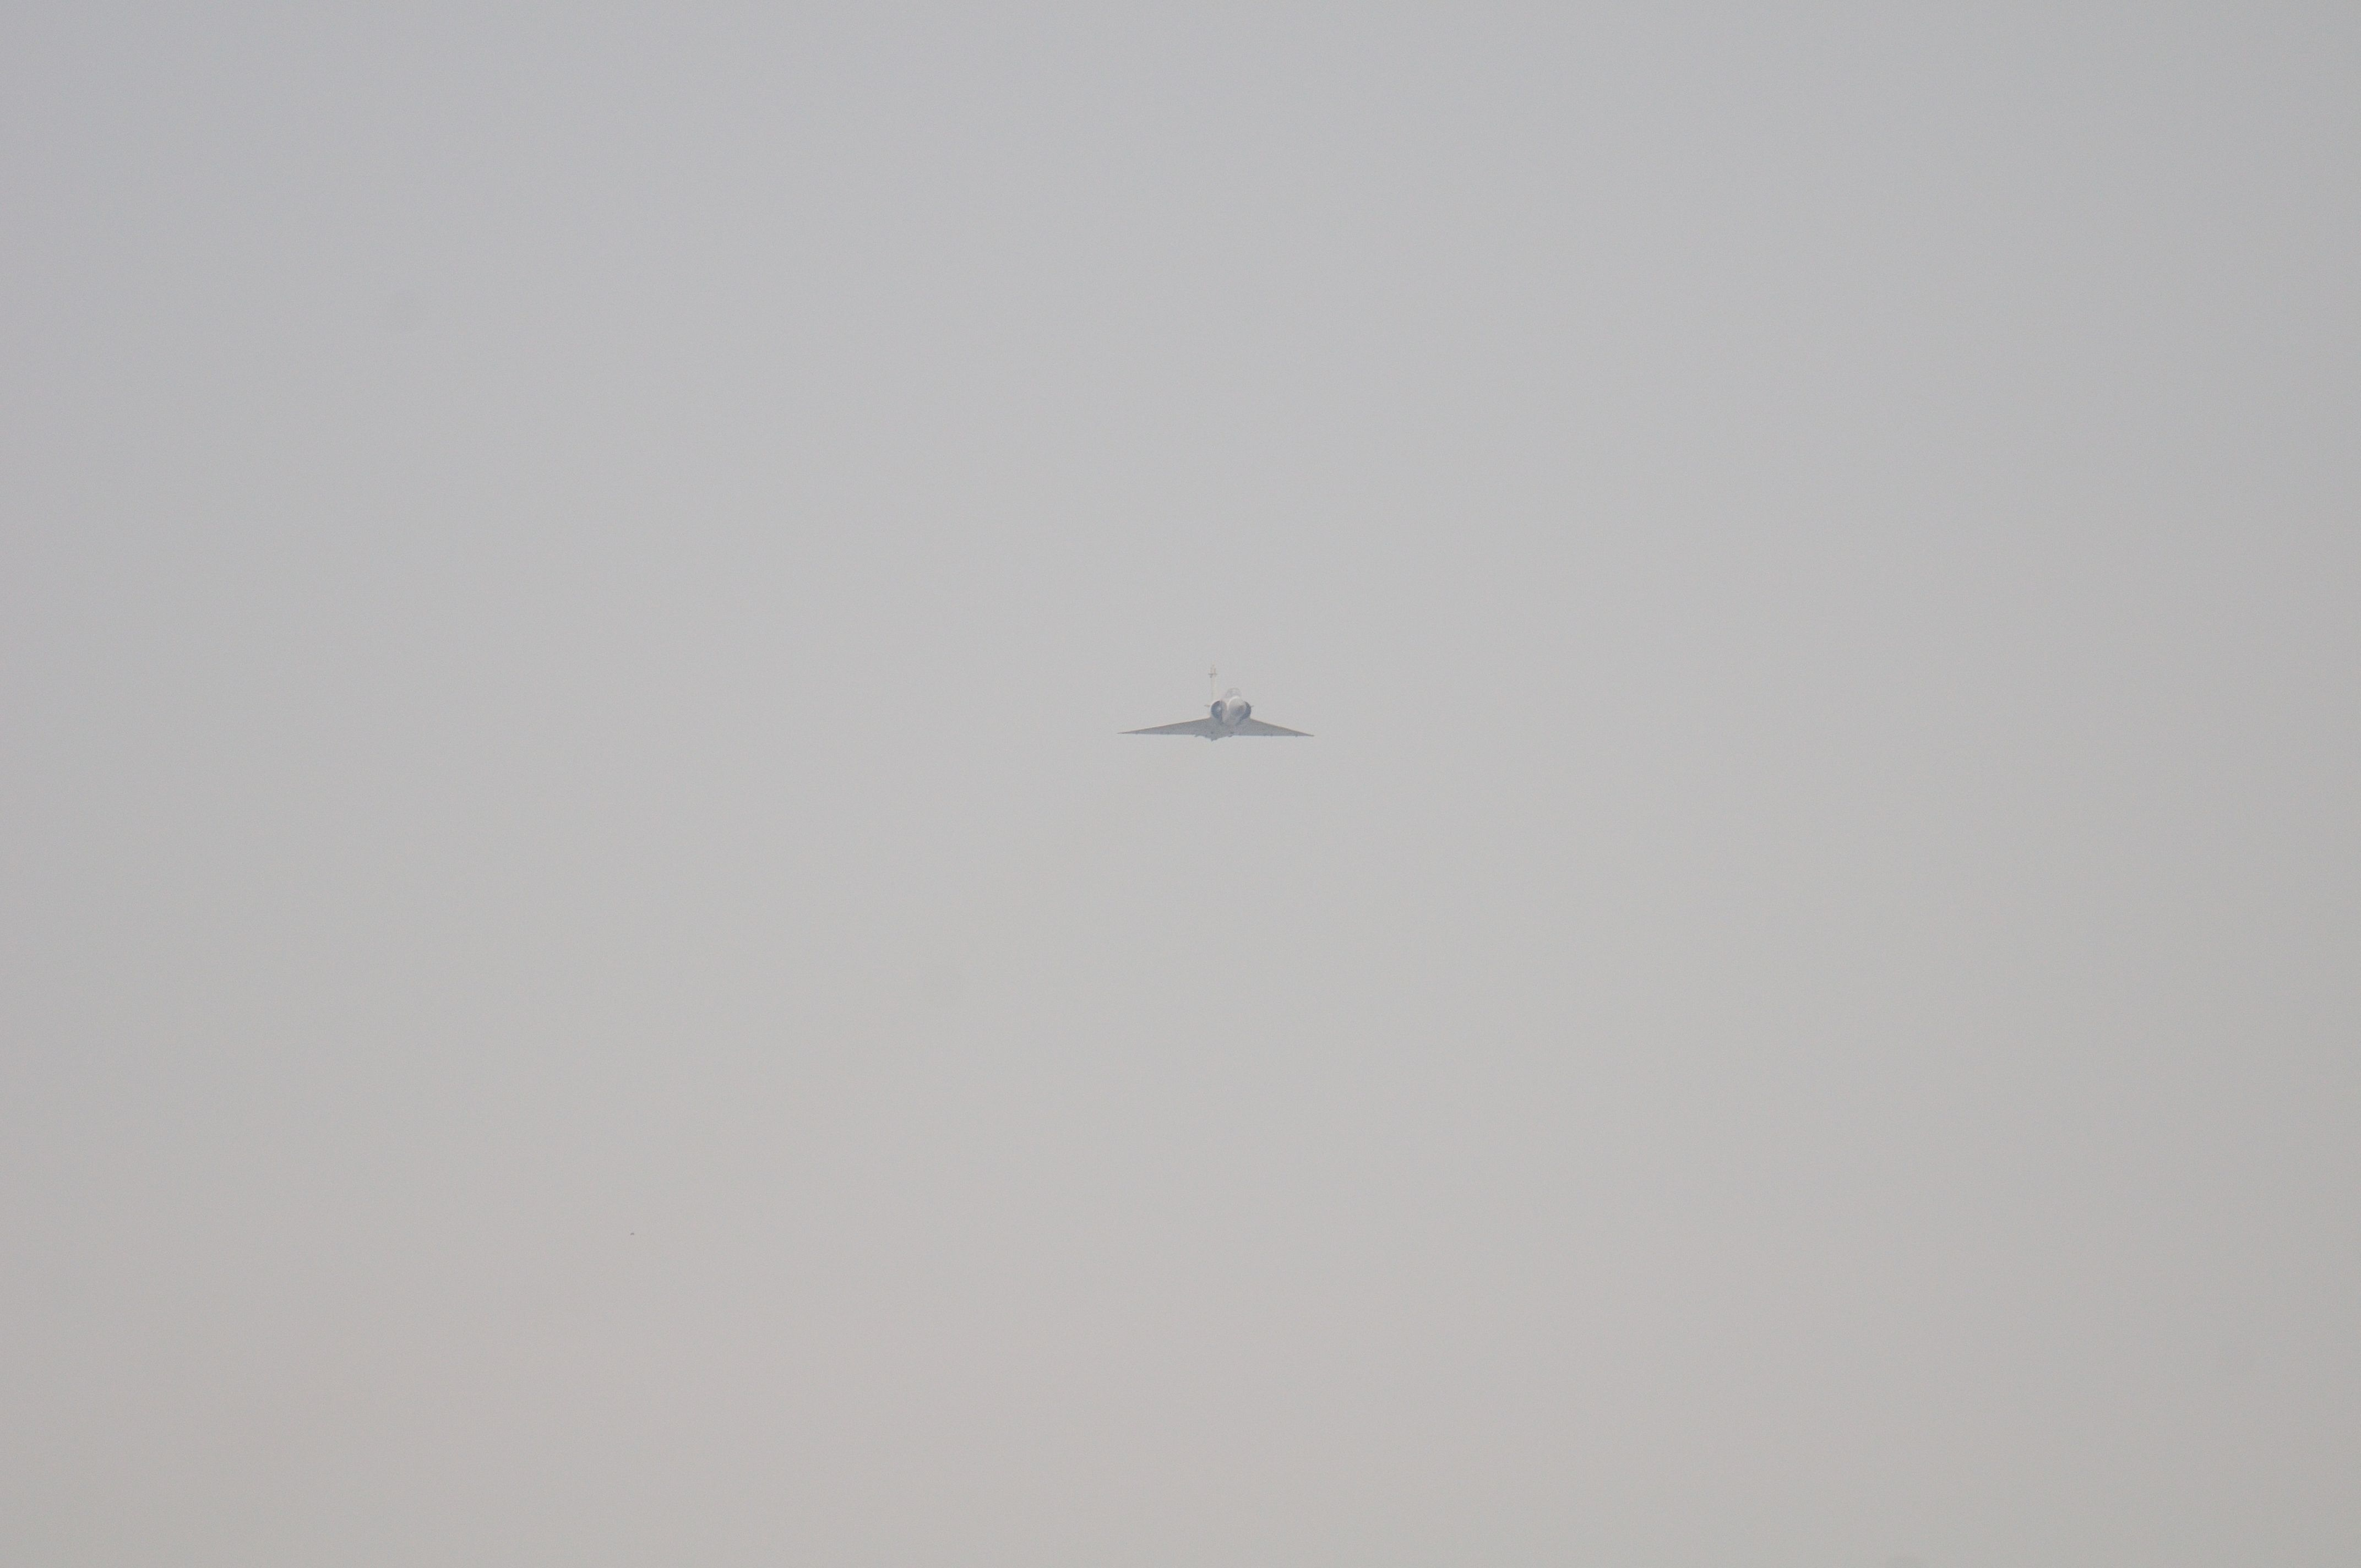Mirage2000: (1115, 660, 1316, 742)
